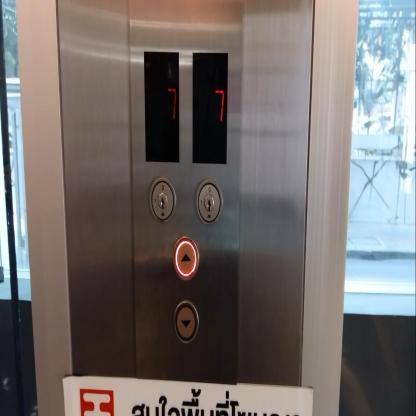down: (172, 300, 198, 344)
keyhole: (149, 176, 176, 223), (196, 179, 223, 225)
led: (142, 49, 180, 165), (191, 48, 228, 166)
up: (172, 236, 200, 280)
